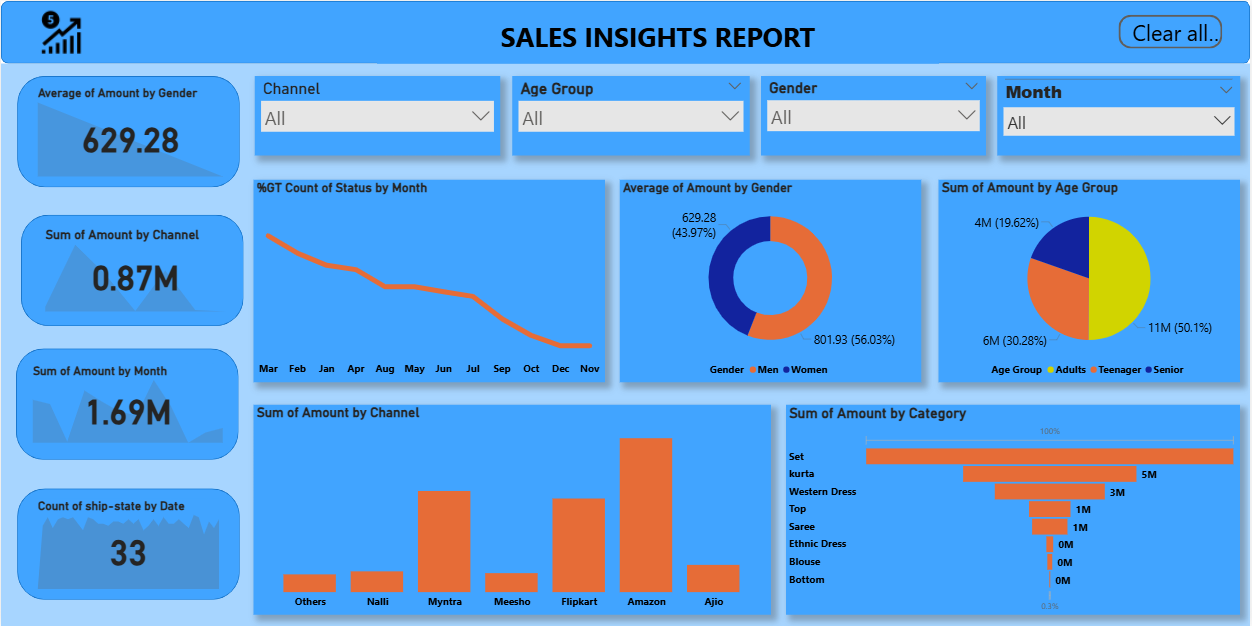

This screenshot's page, from the dashboard's own definition file:
{"tool":"powerbi","page":{"name":"REPORT","canvas":[2000,1000],"ordinal":0},"visuals":[{"type":"shape","box":[0,0,2000,100],"z":0},{"type":"group","id":"g1","title":"Group 2","box":[24,556,356,178],"z":0,"group":"g4"},{"type":"donutChart","fields":{"Category":["Table1.Gender"],"Y":["Avg(Table1.Amount)"]},"box":[990,286,482,324],"z":1000},{"type":"kpi","fields":{"Indicator":["Sum(Table1.Amount)"],"TrendLine":["Table1.Month"]},"box":[46,580,314,132],"z":1000,"group":"g4"},{"type":"shape","box":[26,120,356,178],"z":2000,"group":"g5"},{"type":"pieChart","fields":{"Category":["Table1.Age Group"],"Y":["Sum(Table1.Amount)"]},"box":[1500,286,482,324],"z":2000},{"type":"shape","box":[32,342,356,178],"z":2000,"group":"g3"},{"type":"shape","box":[24,556,356,178],"z":2000,"group":"g1"},{"type":"shape","box":[26,780,356,178],"z":2000,"group":"g2"},{"type":"funnel","fields":{"Category":["Table1.Category"],"Y":["Sum(Table1.Amount)"]},"box":[1256,646,726,336],"z":3000},{"type":"textbox","box":[602,22,898,78],"z":4000},{"type":"lineChart","fields":{"Category":["Table1.Month"],"Y":["Divide(CountNonNull(Table1.Status), ScopedEval(CountNonNull(Table1.Status), []))"]},"box":[404,286,562,324],"z":5000},{"type":"kpi","fields":{"Indicator":["Count(Table1.ship-state)"],"TrendLine":["Table1.Date"]},"box":[54,796.4,300,149.9],"z":5000,"group":"g2"},{"type":"kpi","fields":{"TrendLine":["Table1.Channel "],"Indicator":["Sum(Table1.Amount)"]},"box":[66,362,298,140],"z":6000,"group":"g3"},{"type":"columnChart","fields":{"Y":["Sum(Table1.Amount)"],"Category":["Table1.Channel "]},"box":[404,646,828,336],"z":6000},{"type":"slicer","fields":{"Values":["Table1.Month"]},"box":[1593.4,119.9,388.8,127.2],"z":7000},{"type":"actionButton","box":[1788,22,166,54],"z":8000},{"type":"slicer","fields":{"Values":["Table1.Age Group"]},"box":[817.6,119.9,379.7,127.2],"z":9000},{"type":"slicer","fields":{"Values":["Table1.Channel "]},"box":[405.2,119.9,392.4,127.2],"z":10000},{"type":"slicer","fields":{"Values":["Table1.Gender"]},"box":[1215.5,119.9,359.7,127.2],"z":11000},{"type":"group","id":"g2","title":"Group 2","box":[26,780,356,178],"z":12000},{"type":"group","id":"g3","title":"Group 1","box":[32,342,356,178],"z":13000},{"type":"group","id":"g4","title":"Group 3","box":[24,556,356,178],"z":14000},{"type":"group","id":"g5","title":"Group 1","box":[26,120,356,178],"z":15000},{"type":"kpi","fields":{"TrendLine":["Table1.Gender"],"Indicator":["Avg(Table1.Amount)"]},"box":[54,136,306,150],"z":16000},{"type":"image","box":[0,0,192,100],"z":17000}]}

Visuals, with their boxes in screenshot pixels (x1, y1, x2, y2), scaled from the page's 2000x1000 canvas onto the 1252x626 screenshot:
shape: <bbox>0, 0, 1251, 63</bbox>
"Group 2" group: <bbox>15, 348, 238, 459</bbox>
donutChart - Table1.Gender x Avg(Table1.Amount): <bbox>620, 179, 921, 382</bbox>
kpi - Sum(Table1.Amount) x Table1.Month: <bbox>29, 363, 225, 446</bbox>
shape: <bbox>16, 75, 239, 187</bbox>
pieChart - Table1.Age Group x Sum(Table1.Amount): <bbox>939, 179, 1241, 382</bbox>
shape: <bbox>20, 214, 243, 326</bbox>
shape: <bbox>15, 348, 238, 459</bbox>
shape: <bbox>16, 488, 239, 600</bbox>
funnel - Table1.Category x Sum(Table1.Amount): <bbox>786, 404, 1241, 615</bbox>
textbox: <bbox>377, 14, 939, 63</bbox>
lineChart - Table1.Month x Divide(CountNonNull(Table1.Status), ScopedEval(CountNonNull(Table1.Status), [])): <bbox>253, 179, 605, 382</bbox>
kpi - Count(Table1.ship-state) x Table1.Date: <bbox>34, 499, 222, 592</bbox>
kpi - Table1.Channel  x Sum(Table1.Amount): <bbox>41, 227, 228, 314</bbox>
columnChart - Sum(Table1.Amount) x Table1.Channel : <bbox>253, 404, 771, 615</bbox>
slicer - Table1.Month: <bbox>997, 75, 1241, 155</bbox>
actionButton: <bbox>1119, 14, 1223, 48</bbox>
slicer - Table1.Age Group: <bbox>512, 75, 750, 155</bbox>
slicer - Table1.Channel : <bbox>254, 75, 499, 155</bbox>
slicer - Table1.Gender: <bbox>761, 75, 986, 155</bbox>
"Group 2" group: <bbox>16, 488, 239, 600</bbox>
"Group 1" group: <bbox>20, 214, 243, 326</bbox>
"Group 3" group: <bbox>15, 348, 238, 459</bbox>
"Group 1" group: <bbox>16, 75, 239, 187</bbox>
kpi - Table1.Gender x Avg(Table1.Amount): <bbox>34, 85, 225, 179</bbox>
image: <bbox>0, 0, 120, 63</bbox>
